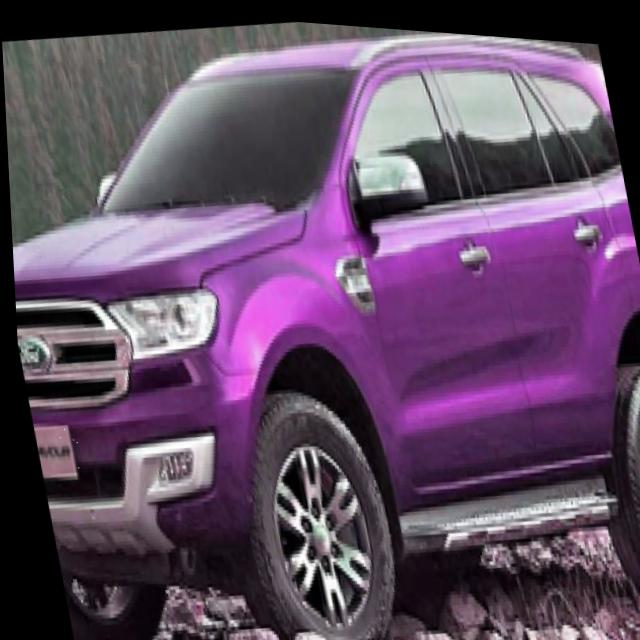license_plate: (29, 425, 79, 477)
